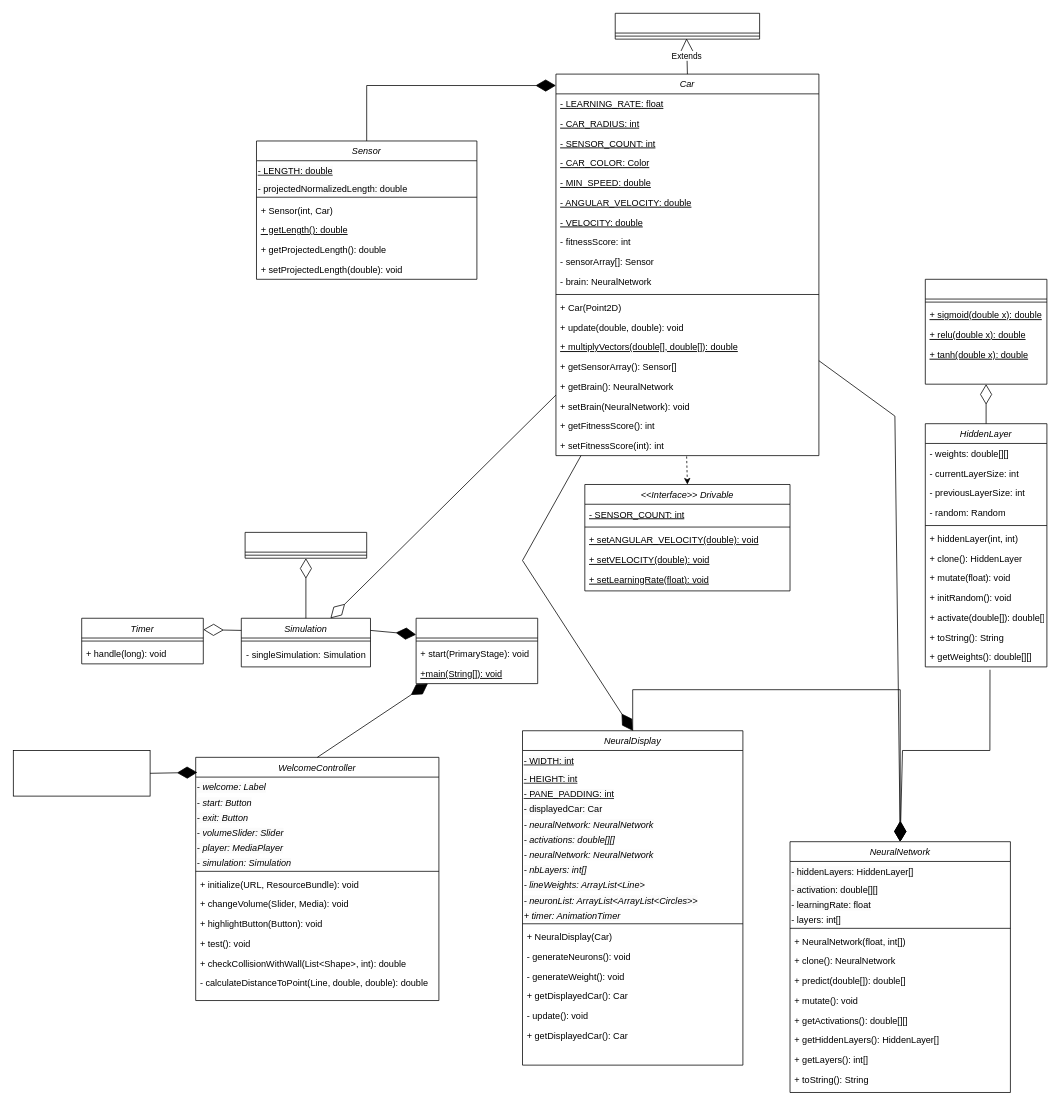
The diagram is 1060 pixels wide and 1106 high, and some of its shapes have lost their labels. The box of each missing label's shape, as (x1, y1, x2, y2) in pixels:
ActivationFunctions: (925, 279, 1047, 384)
javafx.scene.shape.Circle: (614, 13, 760, 39)
SelfDrivingCar: (415, 618, 538, 684)
style.css: (244, 532, 367, 558)
Welcome.FXML: (13, 750, 150, 796)
